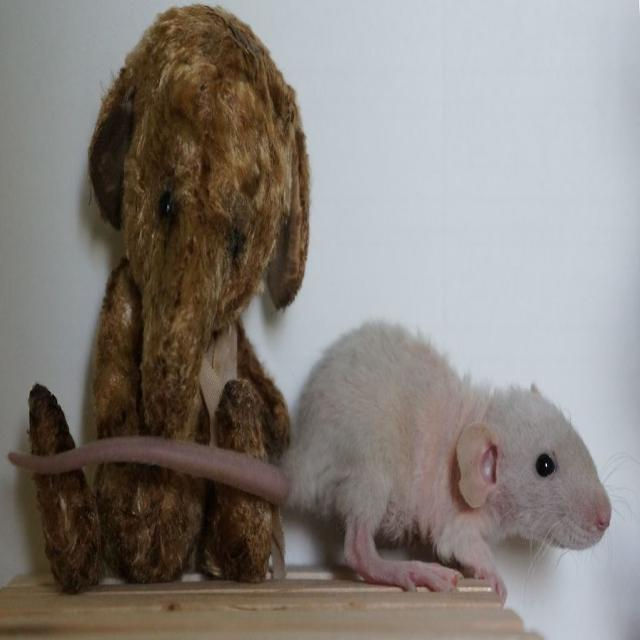rat: (7, 320, 614, 606)
